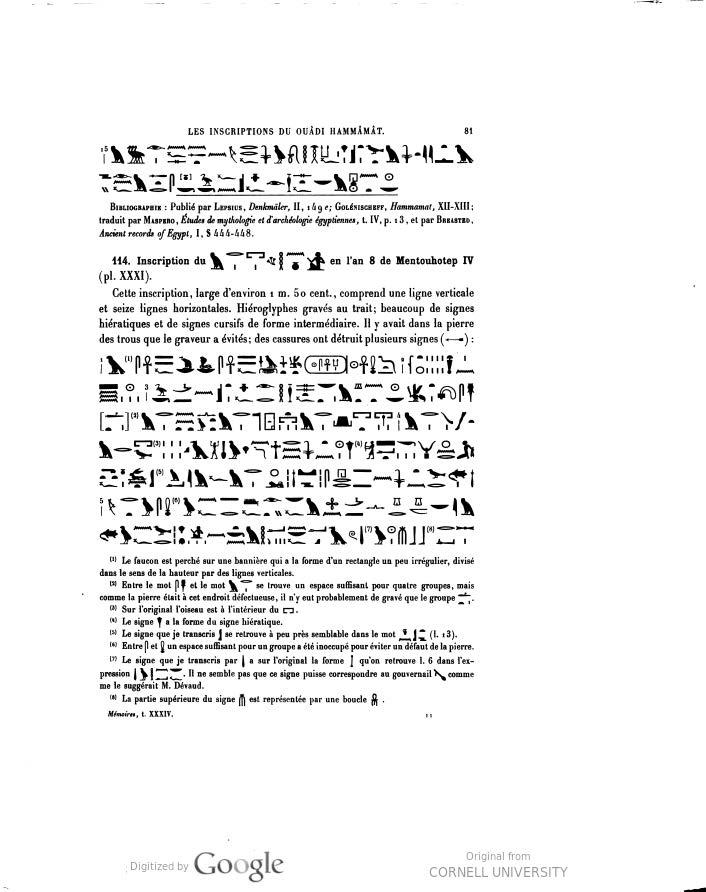circle: (298, 352, 354, 383)
